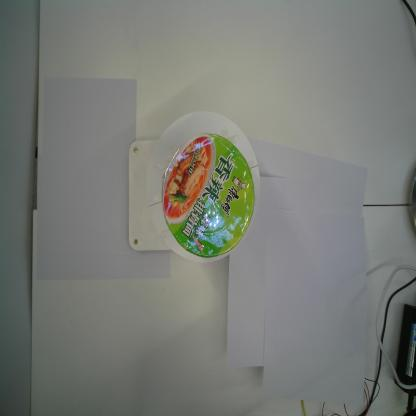Instant Noodles: (161, 133, 255, 257)
